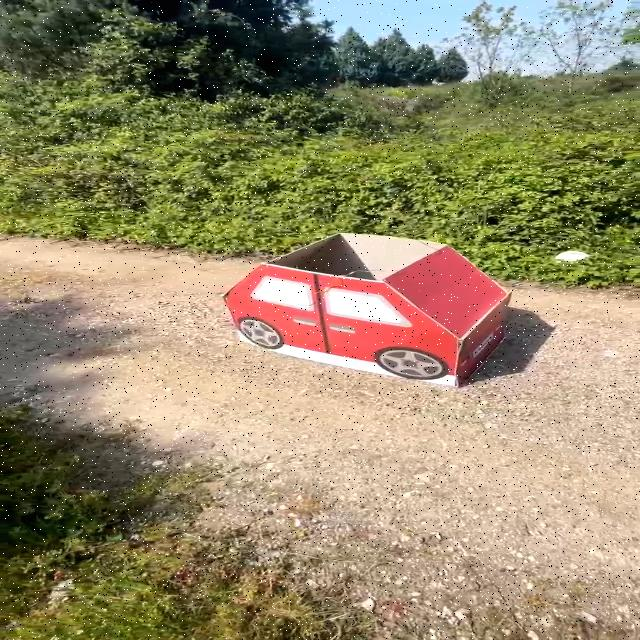red_car: (178, 217, 556, 403)
